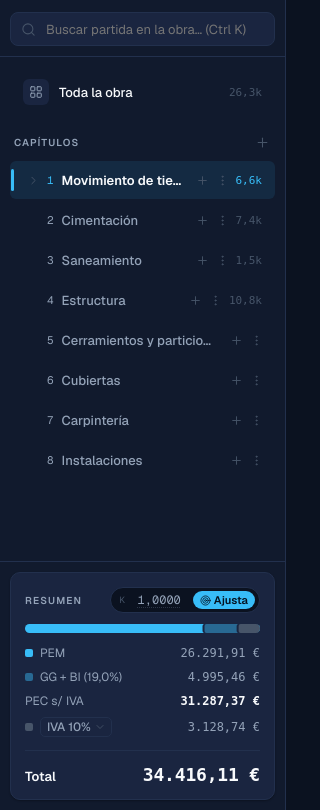
Test: Sidebar — controles del árbol accesibles › «+» y ⋮ del capítulo son botones enfocables; el ⋮ anuncia su menú
Click the button named "Acciones del capítulo" next to "6,6k": (218, 180) [210, 171, 228, 189]
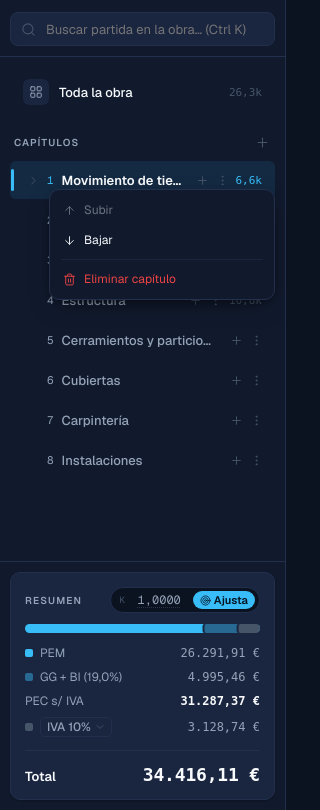
Result: the button "Subir" is shown at [55, 195, 269, 225]
